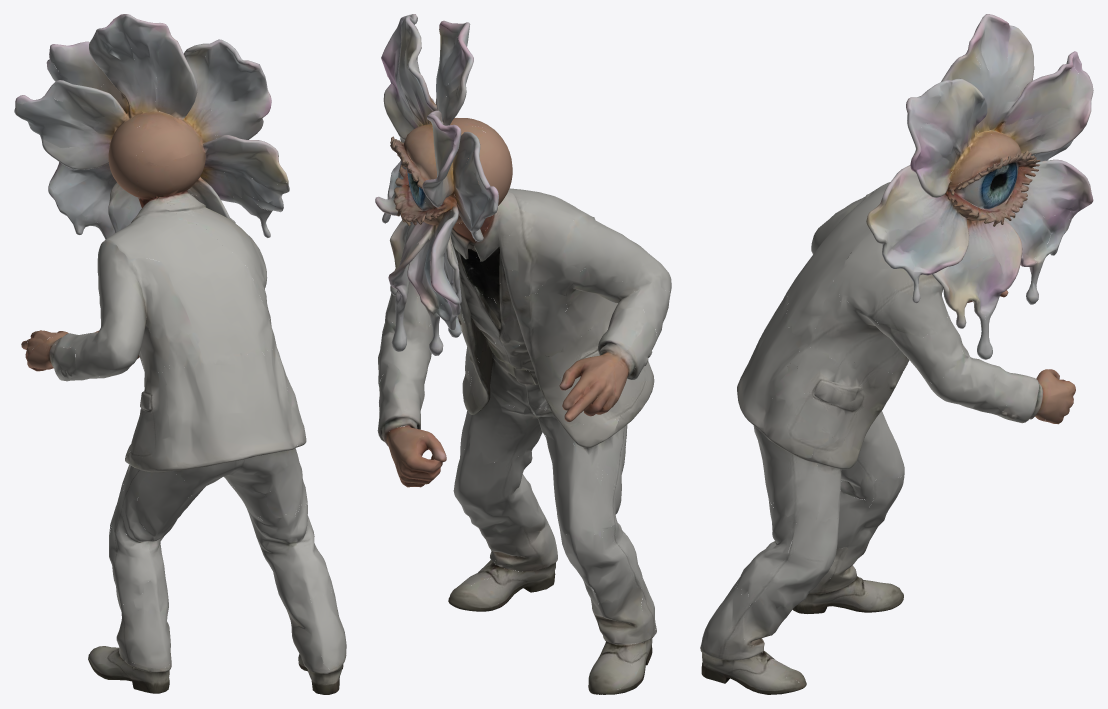
The model's file is npc_hustler.glb.
The picture shows the model from 3 angles, left to right: view 1: azimuth 30°, elevation 25°; view 2: azimuth 150°, elevation 25°; view 3: azimuth 270°, elevation 25°; orthographic projection. The views are drawn at different scales.
Visible parts, largest first — view 1: tripo_node_9c831a25-49ee-4494-91a2-c6b040481e57; view 2: tripo_node_9c831a25-49ee-4494-91a2-c6b040481e57; view 3: tripo_node_9c831a25-49ee-4494-91a2-c6b040481e57.
Boxes of the visible parts, x1=… form: tripo_node_9c831a25-49ee-4494-91a2-c6b040481e57: x1=14, y1=14, x2=346, y2=694; tripo_node_9c831a25-49ee-4494-91a2-c6b040481e57: x1=375, y1=14, x2=671, y2=694; tripo_node_9c831a25-49ee-4494-91a2-c6b040481e57: x1=700, y1=14, x2=1093, y2=694.
Size of the model in its own units: 0.3932 by 1 by 0.5681.
Materials: 1 (1 with a texture image).
